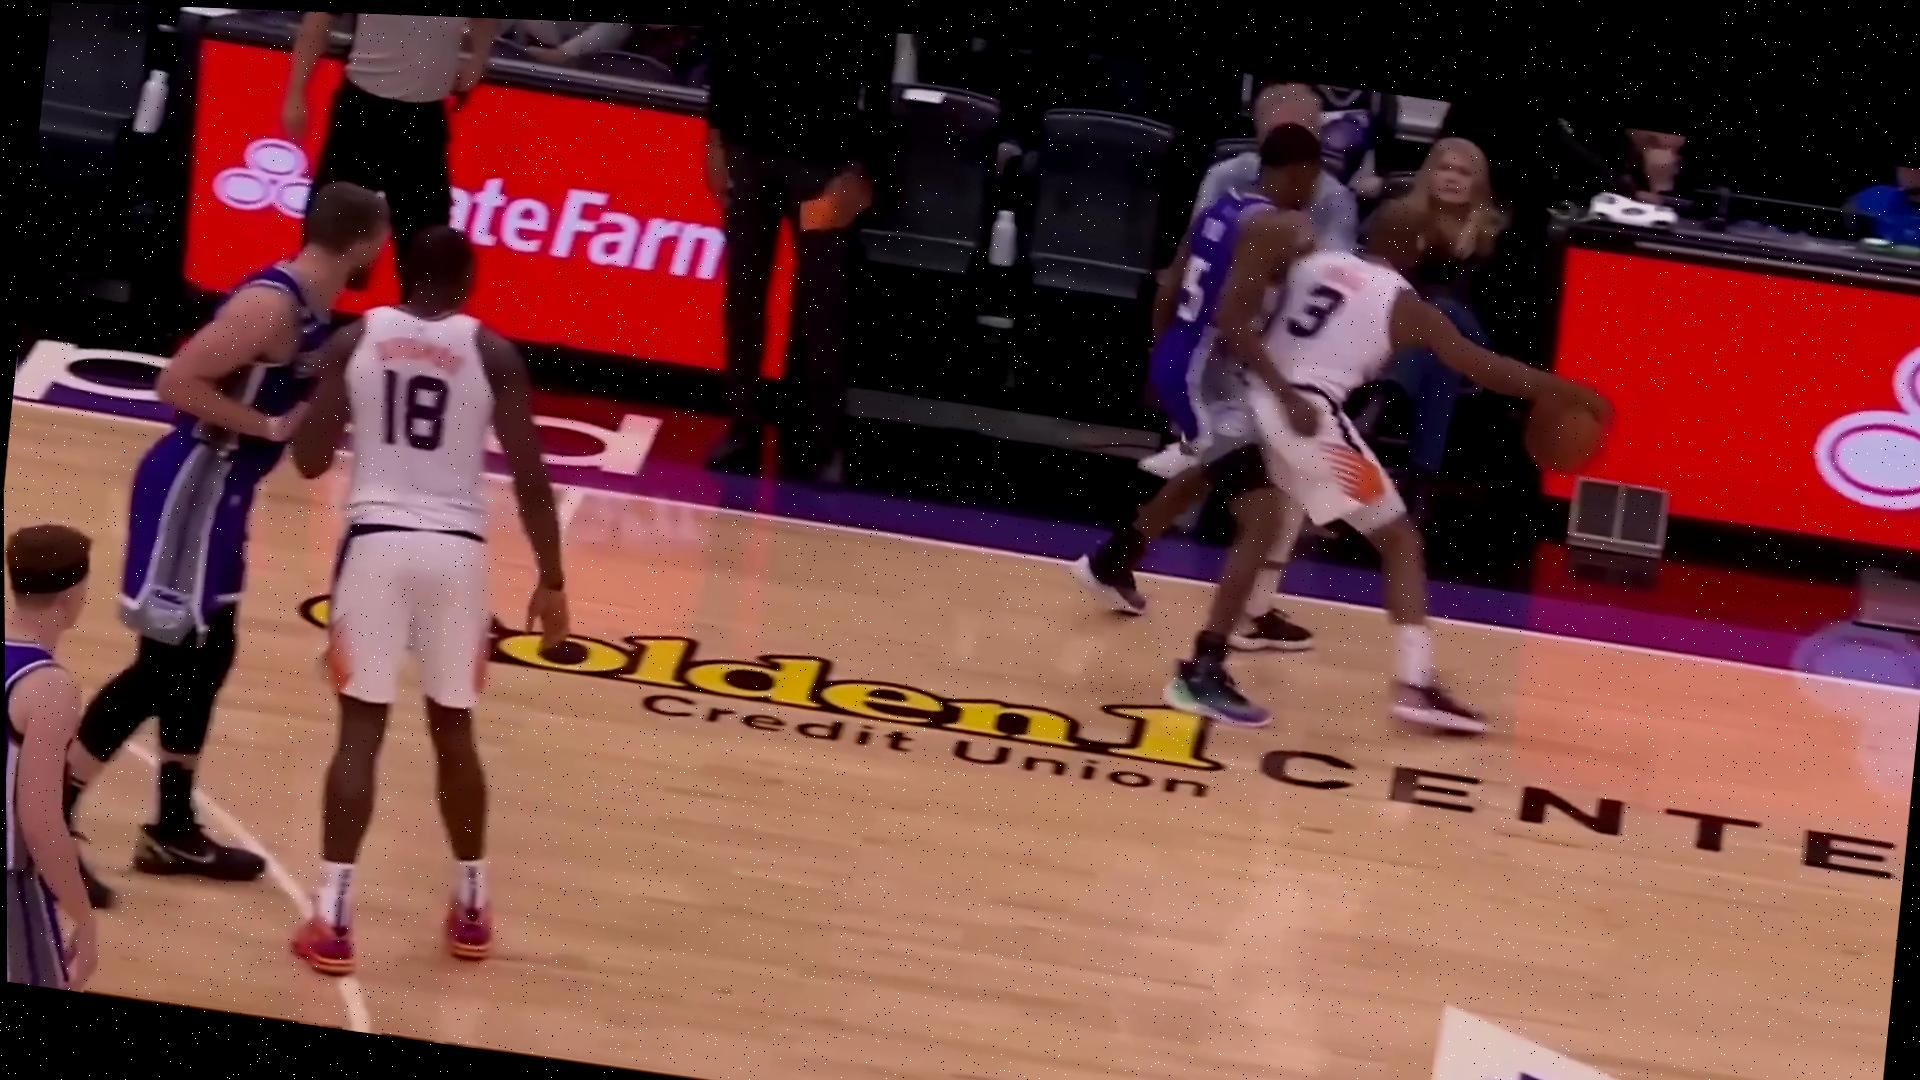no_foul: (1069, 100, 1601, 748)
